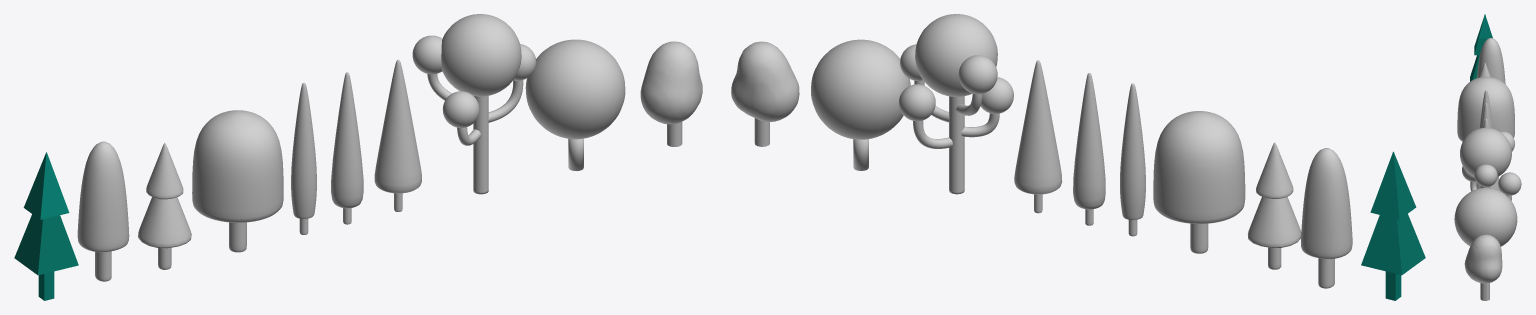
Rendered from agaclar.fbx.
The picture shows the model from 3 angles, left to right: view 1: azimuth 30°, elevation 25°; view 2: azimuth 150°, elevation 25°; view 3: azimuth 270°, elevation 25°; orthographic projection. The views are drawn at different scales.
Parts seen in each view (by area): view 1: NurbsPath, Circle, NurbsPath.001, Cube, Cube.018, NurbsPath.003, Circle.003, Cube.002, Circle.002, Circle.001; view 2: NurbsPath, Circle, NurbsPath.001, Cube, Cube.018, NurbsPath.003, Circle.003, Cube.002, Circle.002, Circle.001; view 3: NurbsPath, NurbsPath.001, Circle, NurbsPath.003, Cube, Cube.018, Circle.001, Circle.002, Circle.003, Cube.002.
Part boxes in pixels (left/top/right/bottom): NurbsPath: left=412, top=14, right=536, bottom=194; Circle: left=192, top=110, right=283, bottom=252; NurbsPath.001: left=525, top=39, right=625, bottom=170; Cube: left=77, top=141, right=129, bottom=281; Cube.018: left=14, top=152, right=78, bottom=300; NurbsPath.003: left=640, top=41, right=702, bottom=146; Circle.003: left=374, top=59, right=421, bottom=211; Cube.002: left=138, top=143, right=191, bottom=269; Circle.002: left=331, top=72, right=363, bottom=224; Circle.001: left=291, top=83, right=316, bottom=234; NurbsPath: left=899, top=14, right=1013, bottom=194; Circle: left=1153, top=111, right=1245, bottom=253; NurbsPath.001: left=811, top=39, right=910, bottom=170; Cube: left=1301, top=148, right=1352, bottom=288; Cube.018: left=1361, top=151, right=1425, bottom=300; NurbsPath.003: left=731, top=41, right=799, bottom=146; Circle.003: left=1014, top=60, right=1062, bottom=213; Cube.002: left=1247, top=142, right=1301, bottom=269; Circle.002: left=1073, top=73, right=1105, bottom=225; Circle.001: left=1120, top=83, right=1145, bottom=236; NurbsPath: left=1460, top=127, right=1521, bottom=200; NurbsPath.001: left=1454, top=188, right=1517, bottom=246; Circle: left=1457, top=76, right=1514, bottom=141; NurbsPath.003: left=1464, top=234, right=1502, bottom=300; Cube: left=1477, top=38, right=1505, bottom=83; Cube.018: left=1470, top=14, right=1492, bottom=81; Circle.001: left=1479, top=90, right=1492, bottom=128; Circle.002: left=1481, top=103, right=1491, bottom=128; Circle.003: left=1476, top=119, right=1500, bottom=191; Cube.002: left=1479, top=63, right=1490, bottom=77.
Bounding box in the file's own units: 337 × 82.74 × 46.03.
